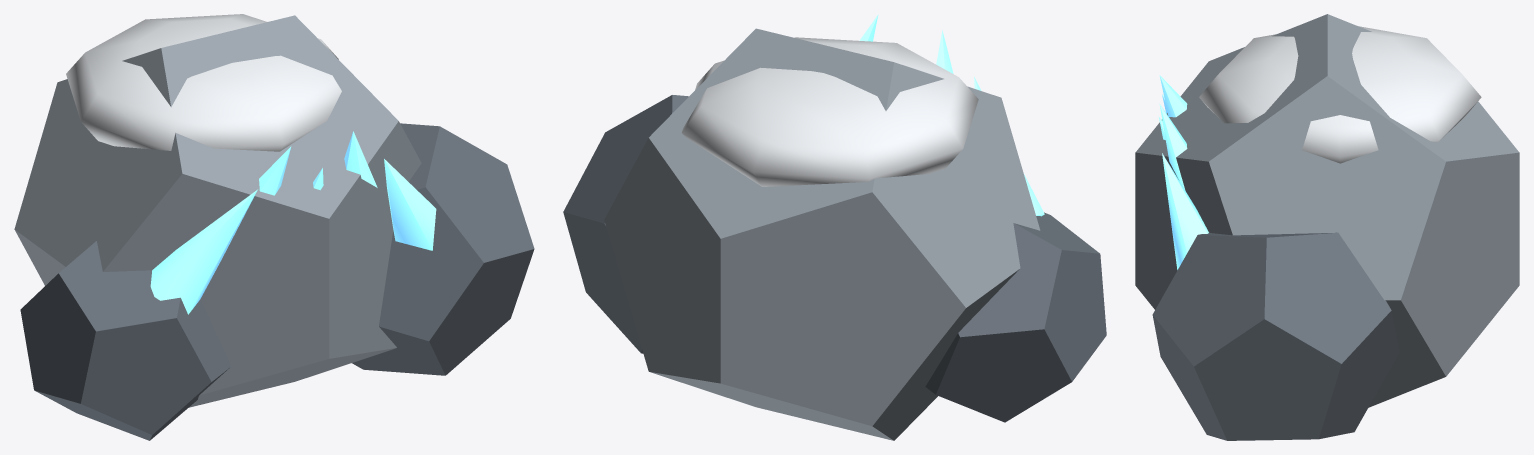
Rendered from ore_rock.glb.
The picture shows the model from 3 angles, left to right: view 1: azimuth 30°, elevation 25°; view 2: azimuth 150°, elevation 25°; view 3: azimuth 270°, elevation 25°; orthographic projection. The views are drawn at different scales.
Parts seen in each view (by area): view 1: ore_rock; view 2: ore_rock; view 3: ore_rock.
Boxes of the visible parts, x1,y1,x2,y2 form: ore_rock: [14, 14, 534, 440]; ore_rock: [563, 14, 1106, 440]; ore_rock: [1135, 14, 1519, 440].
Bounding box in the file's own units: 0.7896 × 0.5979 × 0.5979.
